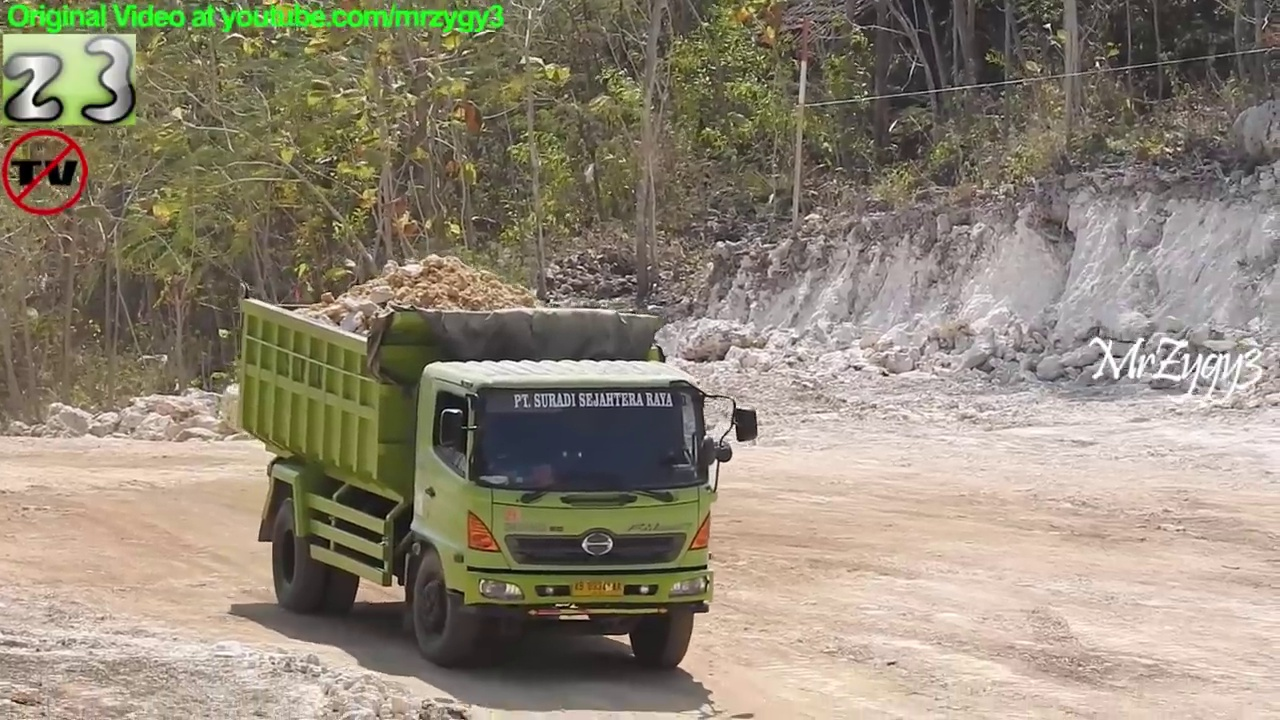truck: (229, 272, 765, 676)
